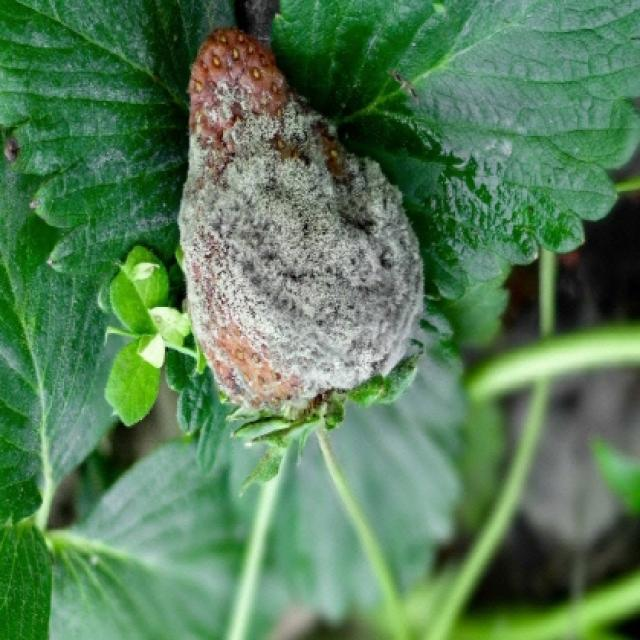Gray Mold: (175, 26, 427, 419)
